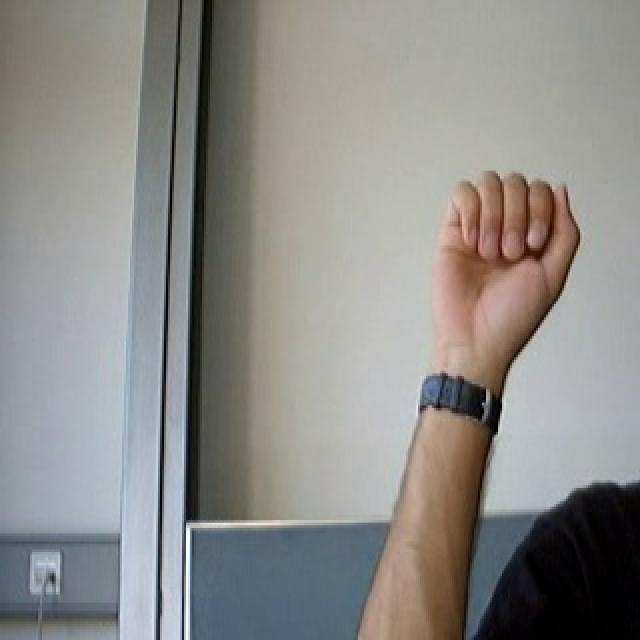A: (420, 127, 586, 388)
